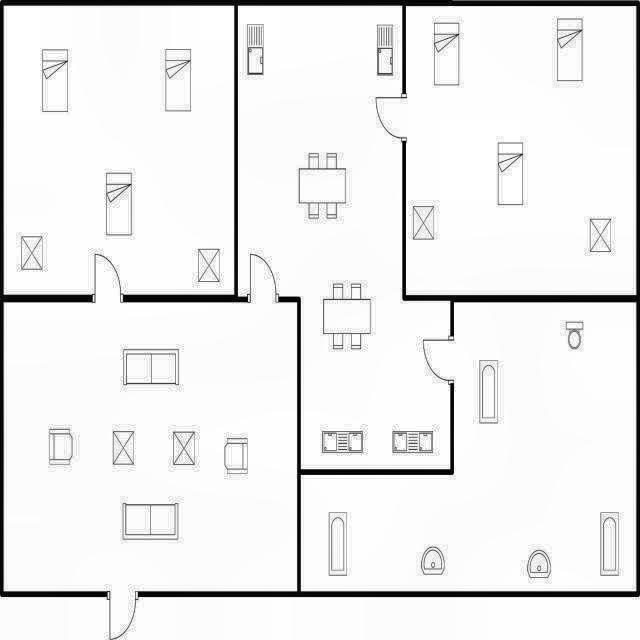room: (238, 5, 450, 469), (301, 302, 636, 591), (4, 303, 297, 592), (406, 6, 637, 295), (5, 6, 234, 294)
